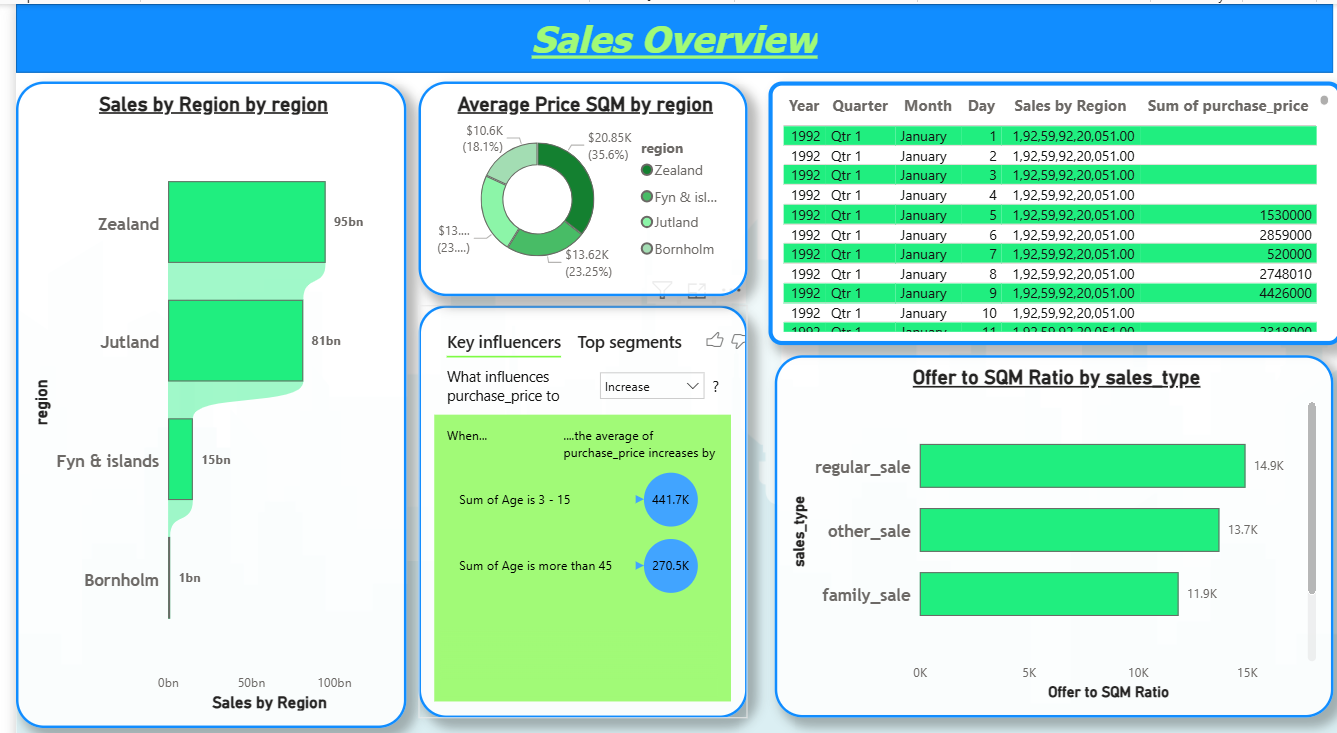

This screenshot's page, from the dashboard's own definition file:
{"tool":"powerbi","page":{"name":"Sales Overview","canvas":[1280,720],"ordinal":1},"visuals":[{"type":"barChart","fields":{"Category":["Housing.region"],"Y":["Housing.Sales by Region"]},"box":[0,74.8,376.4,623.7],"z":0},{"type":"shape","box":[0,0,1271.6,66.4],"z":1000},{"type":"tableEx","fields":{"Values":["Housing.date.Variation.Date Hierarchy.Year","Housing.date.Variation.Date Hierarchy.Quarter","Housing.date.Variation.Date Hierarchy.Month","Housing.date.Variation.Date Hierarchy.Day","Housing.Sales by Region","Sum(Housing.purchase_price)"]},"box":[726.3,74.8,553.8,254.6],"z":2000},{"type":"barChart","fields":{"Category":["Housing.sales_type"],"Y":["Housing.Offer to SQM Ratio"]},"box":[732.3,339,539.3,349.9],"z":3000},{"type":"keyDriversVisual","fields":{"Target":["Housing.purchase_price"],"ExplainBy":["Sum(Housing.Age)"]},"box":[388.5,290.8,317.3,398.1],"z":4000},{"type":"donutChart","fields":{"Y":["Housing.Average Price SQM"],"Category":["Housing.region"]},"box":[388.5,74.8,317.3,207.5],"z":5000}]}

Visuals, with their boxes in screenshot pixels (x1, y1, x2, y2), scaled from the page's 1280x720 canvas onto the 1337x733 screenshot:
barChart - Housing.region x Housing.Sales by Region: 0:76:393:711
shape: 0:0:1328:68
tableEx - Housing.date.Variation.Date Hierarchy.Year x Housing.date.Variation.Date Hierarchy.Quarter: 759:76:1336:335
barChart - Housing.sales_type x Housing.Offer to SQM Ratio: 765:345:1328:701
keyDriversVisual - Housing.purchase_price x Sum(Housing.Age): 406:296:737:701
donutChart - Housing.Average Price SQM x Housing.region: 406:76:737:287
